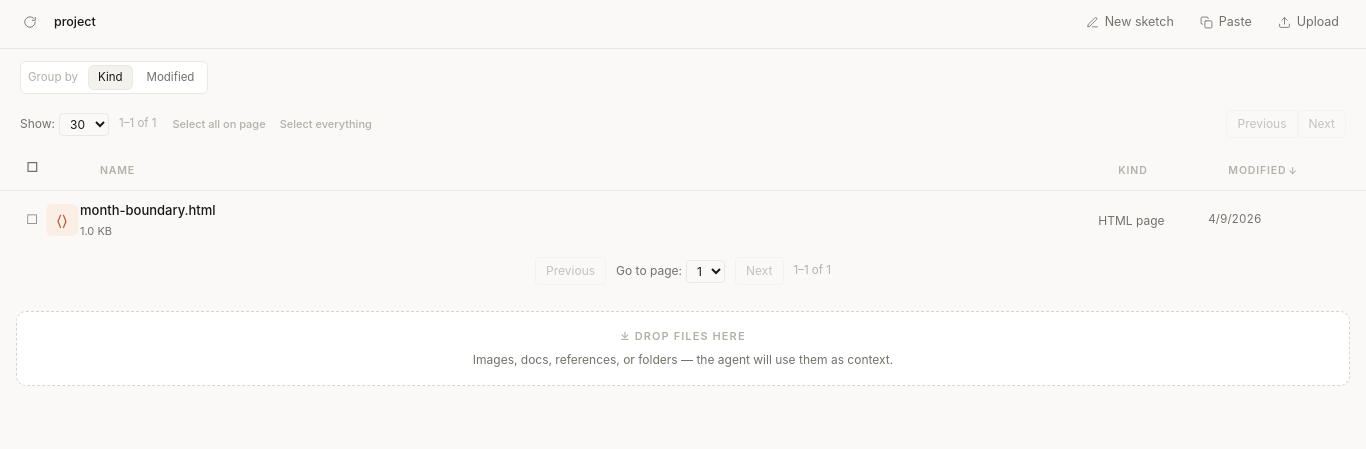
it: DesignFilesPanel grouping › keeps files at the thirty calendar day boundary in the previous 30 days group
Step 1. Click the button "Modified" → [170, 77], box [136,65,204,90]
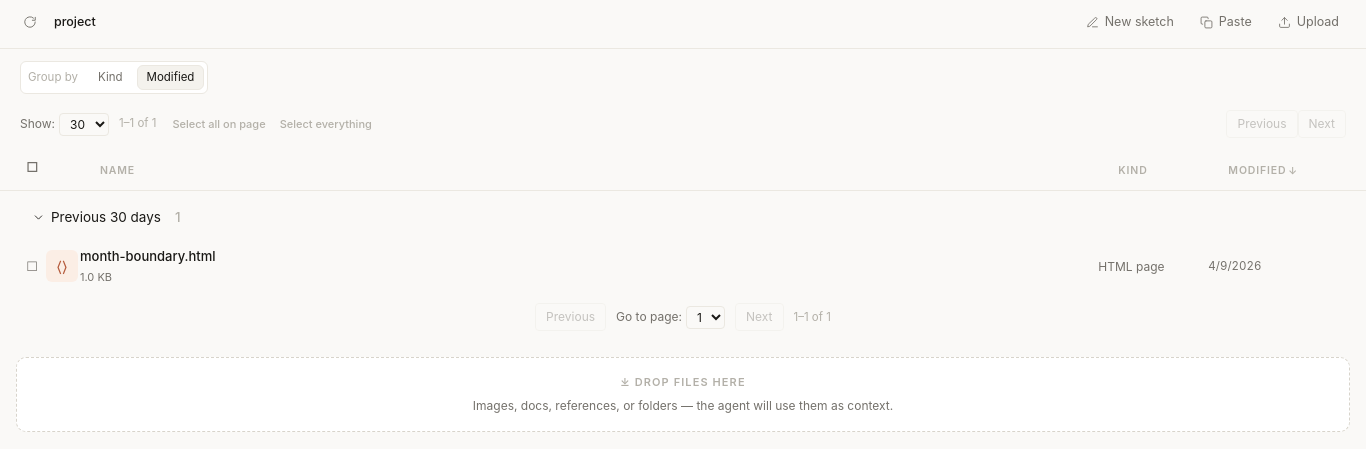
Expected: the row with test id "design-file-row-month-boundary.html" is shown, [0,237,1365,295]
Now the text "Previous 30 days" is shown, box [51,207,161,227]
